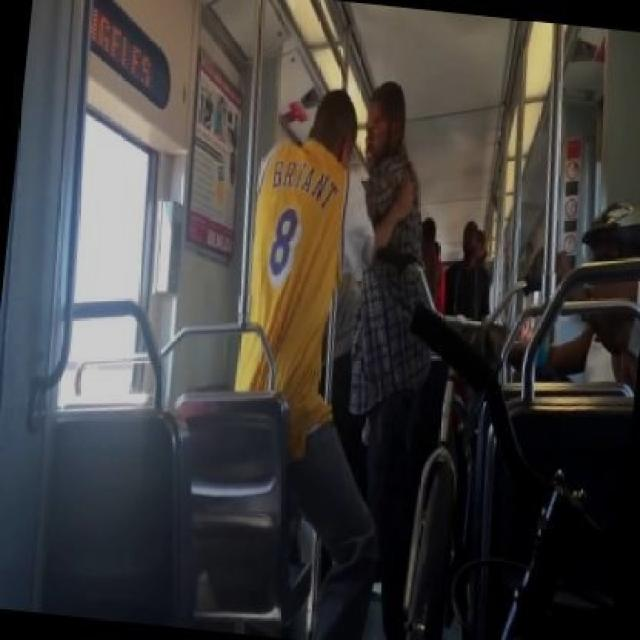fight: (232, 83, 445, 640)
